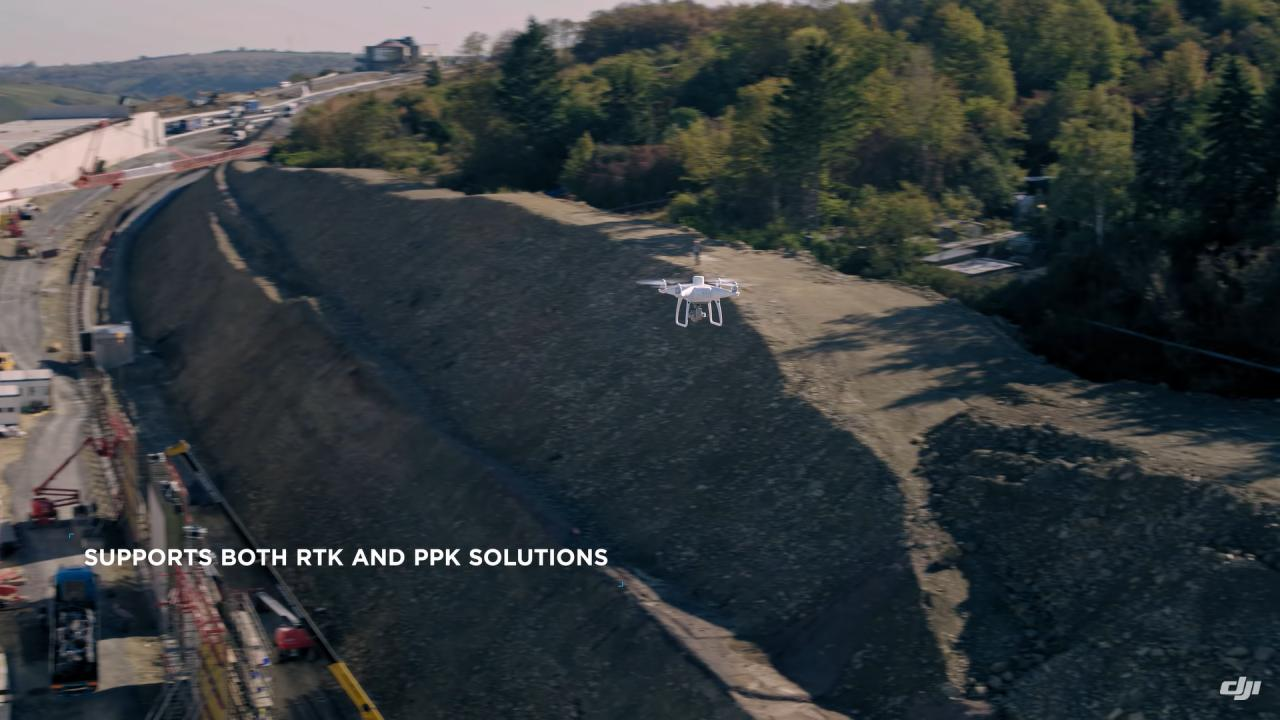Drone: (628, 261, 769, 340)
